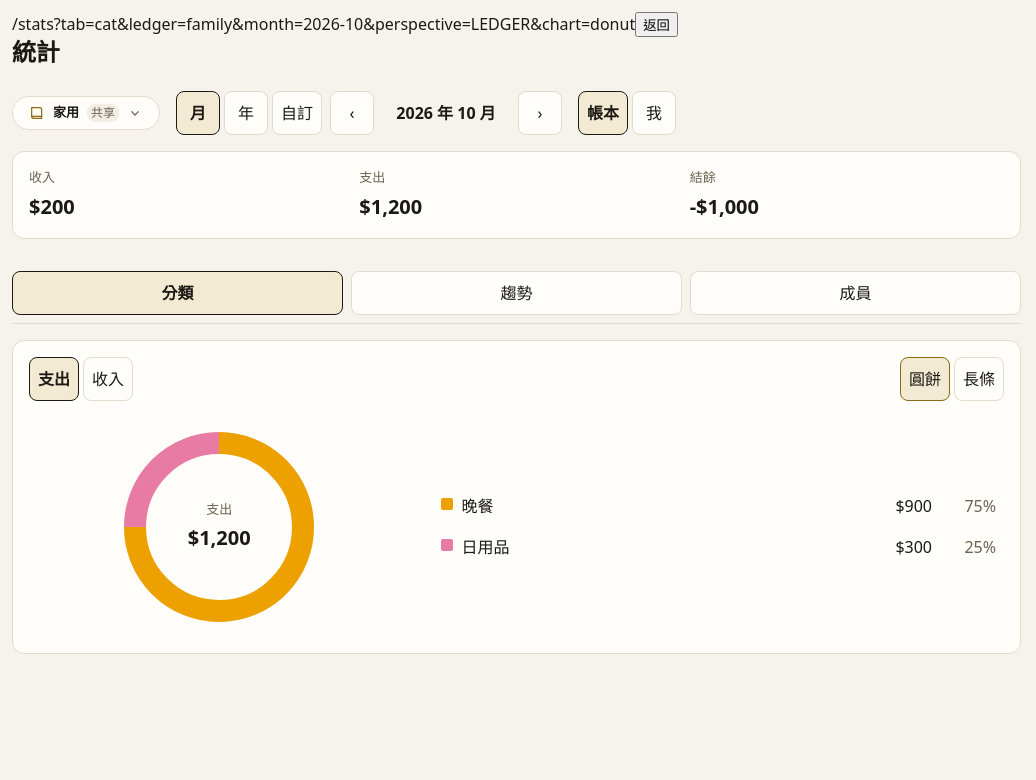
Test: StatsPage › works when localStorage read and write throw
The width and height of the screenshot is (1036, 780).
Expected: the list named "支出分類清單" is shown, x1=433 y1=486 x2=1004 y2=567
Click the button "長條" at (979, 378), box x1=954 y1=356 x2=1004 y2=400
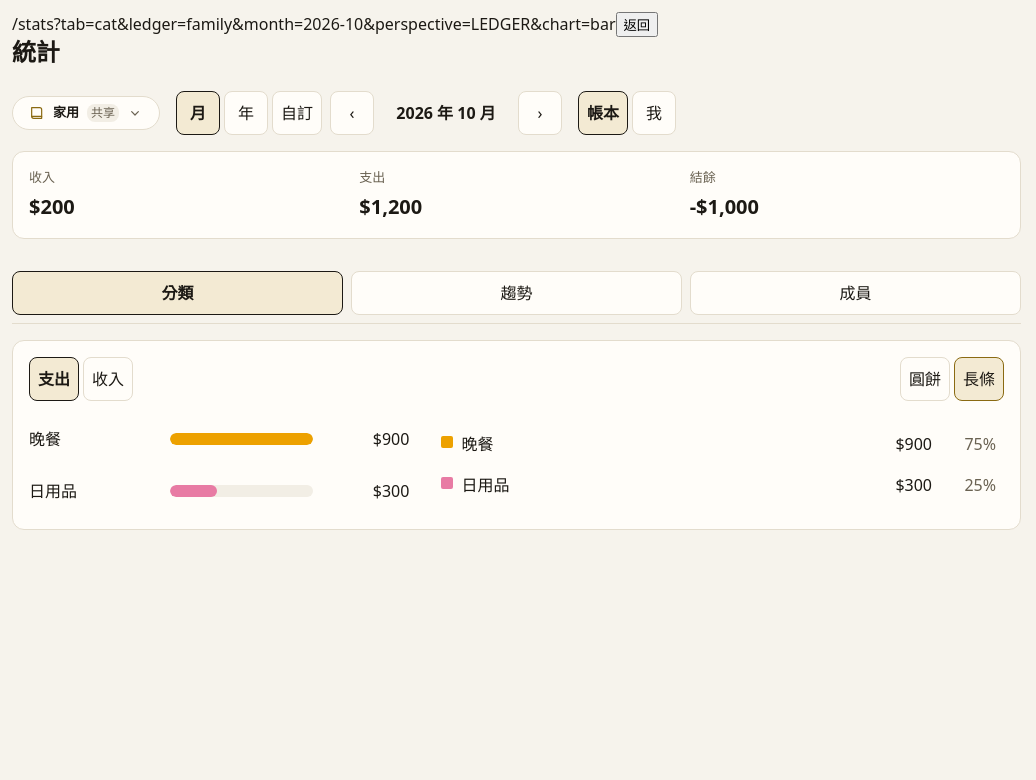
Result: the button "晚餐 $900" is shown at x1=29 y1=416 x2=409 y2=460
